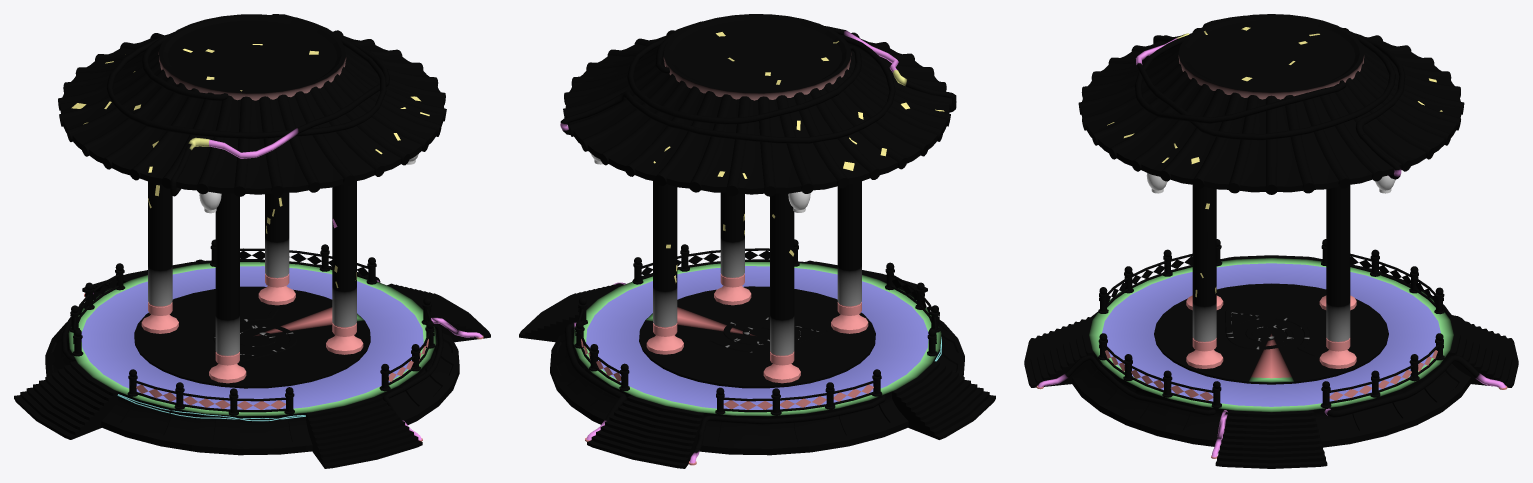
The model's file is SM_ENV_KNVLLG03_Yagura_Night.gltf.
The picture shows the model from 3 angles, left to right: view 1: azimuth 30°, elevation 25°; view 2: azimuth 150°, elevation 25°; view 3: azimuth 270°, elevation 25°; orthographic projection.
Parts seen in each view (by area): view 1: SM_ENV_KNVLLG03_Yagura_Night; view 2: SM_ENV_KNVLLG03_Yagura_Night; view 3: SM_ENV_KNVLLG03_Yagura_Night.
Part boxes in pixels (x1,y1,x2,y2): SM_ENV_KNVLLG03_Yagura_Night: [14, 14, 490, 468]; SM_ENV_KNVLLG03_Yagura_Night: [519, 14, 995, 468]; SM_ENV_KNVLLG03_Yagura_Night: [1024, 14, 1518, 468].
Bounding box in the file's own units: 30.46 × 21.15 × 30.46.
